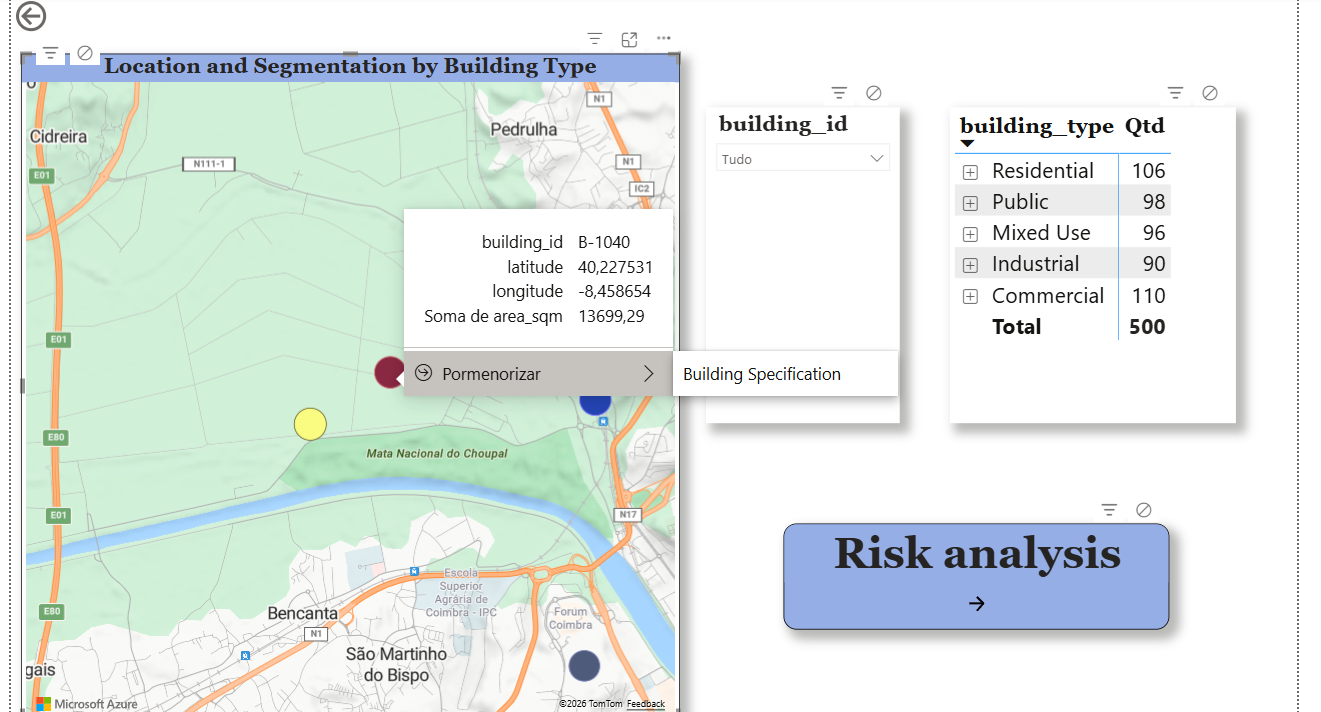

The dashboard page shown, as its layout file describes it:
{"tool":"powerbi","page":{"name":"Home","canvas":[1280,720],"ordinal":0},"visuals":[{"type":"azureMap","title":"Location and Segmentation by Building Type","fields":{"Series":["building_data.building_id"],"Size":["Sum(building_data.area_sqm)"],"X":["building_data.longitude"],"Y":["building_data.latitude"]},"box":[10,57.2,655.6,663],"z":0},{"type":"actionButton","box":[0,0,100,40],"z":1000},{"type":"pivotTable","fields":{"Rows":["building_data.building_type","building_data.region"],"Values":["Medidas.Qtd Edifícios"]},"box":[934.2,110.7,284.9,314.7],"z":2000},{"type":"actionButton","title":"Risk analysis","box":[768.8,525,384.4,105.7],"z":3000},{"type":"slicer","fields":{"Values":["building_data.building_id"]},"box":[691.6,110.7,192.8,314.7],"z":4000}]}

Visuals, with their boxes on the page's 1280x720 design canvas (x1, y1, x2, y2). These are canvas units, not pixel positions in the 1321x712 screenshot, which may show the page scaled, cropped or inside an application window:
"Location and Segmentation by Building Type" azureMap: rect(10, 57, 666, 720)
actionButton: rect(0, 0, 100, 40)
pivotTable - building_data.building_type x building_data.region: rect(934, 111, 1219, 425)
"Risk analysis" actionButton: rect(769, 525, 1153, 631)
slicer - building_data.building_id: rect(692, 111, 884, 425)
